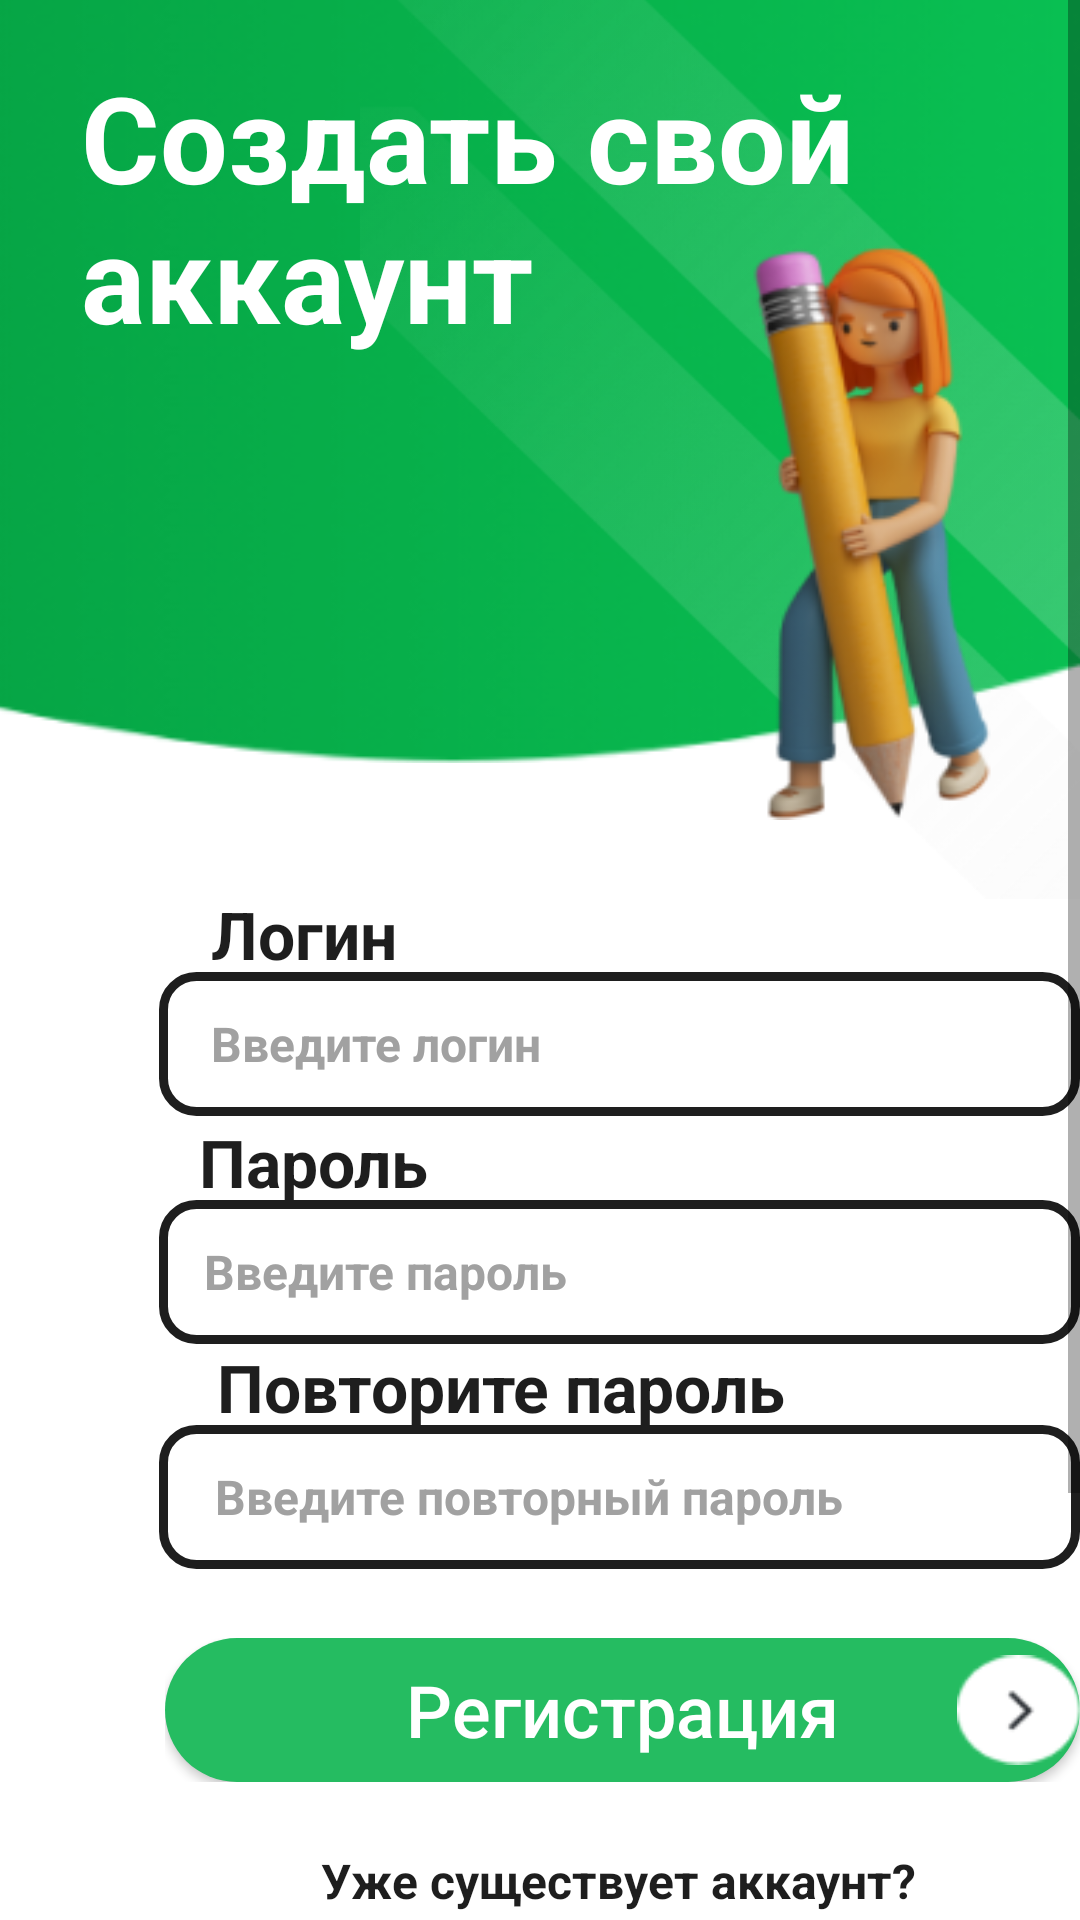

Named icons in this screenshot (1080×1920) and their centers, point (x, y):
circle: point (1018, 1710)
